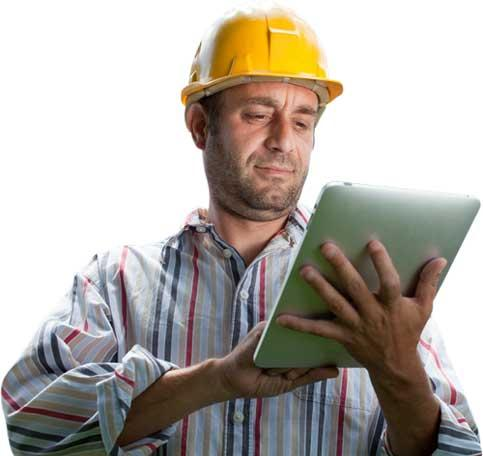helmet: (180, 12, 348, 113)
